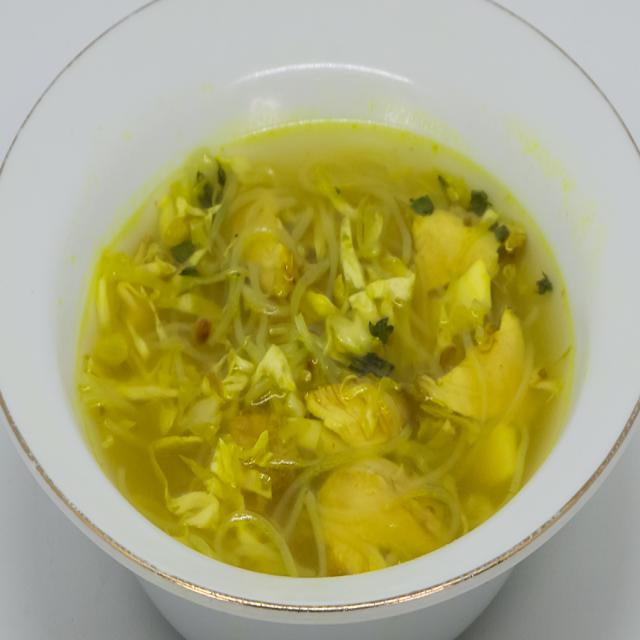Soto-Lamongan: (58, 81, 572, 586)
